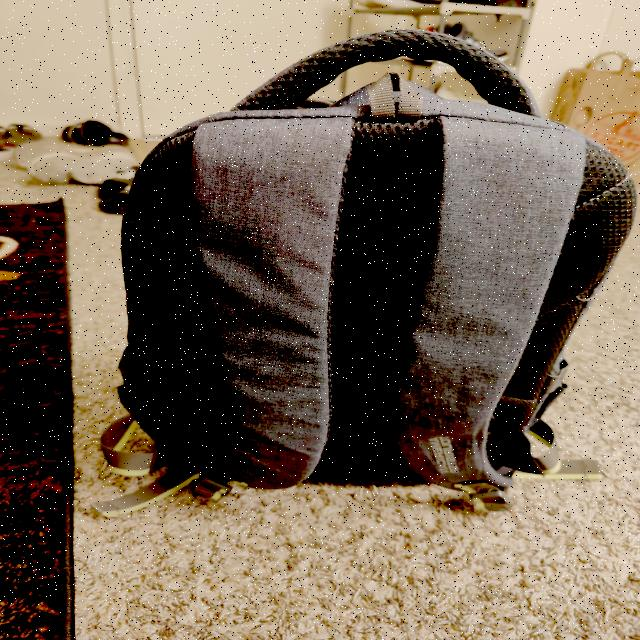bag: (131, 40, 625, 476)
